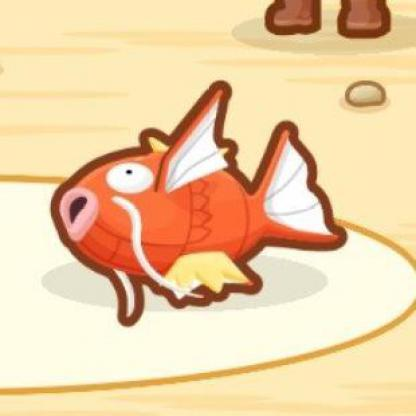Magikarp: (1, 45, 393, 416)
